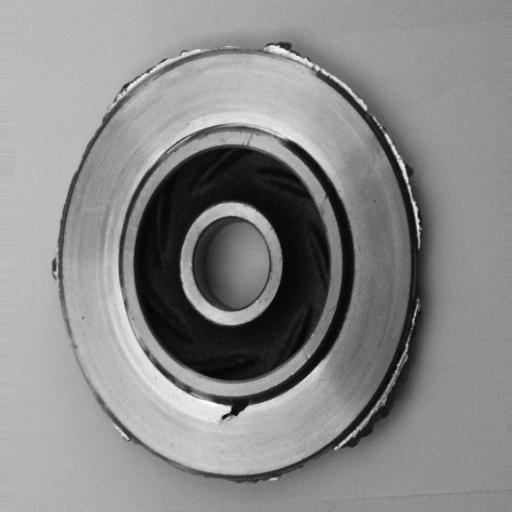casting_with_burr: (47, 39, 429, 488)
crack: (212, 389, 262, 433)
scratch: (213, 119, 297, 147)
